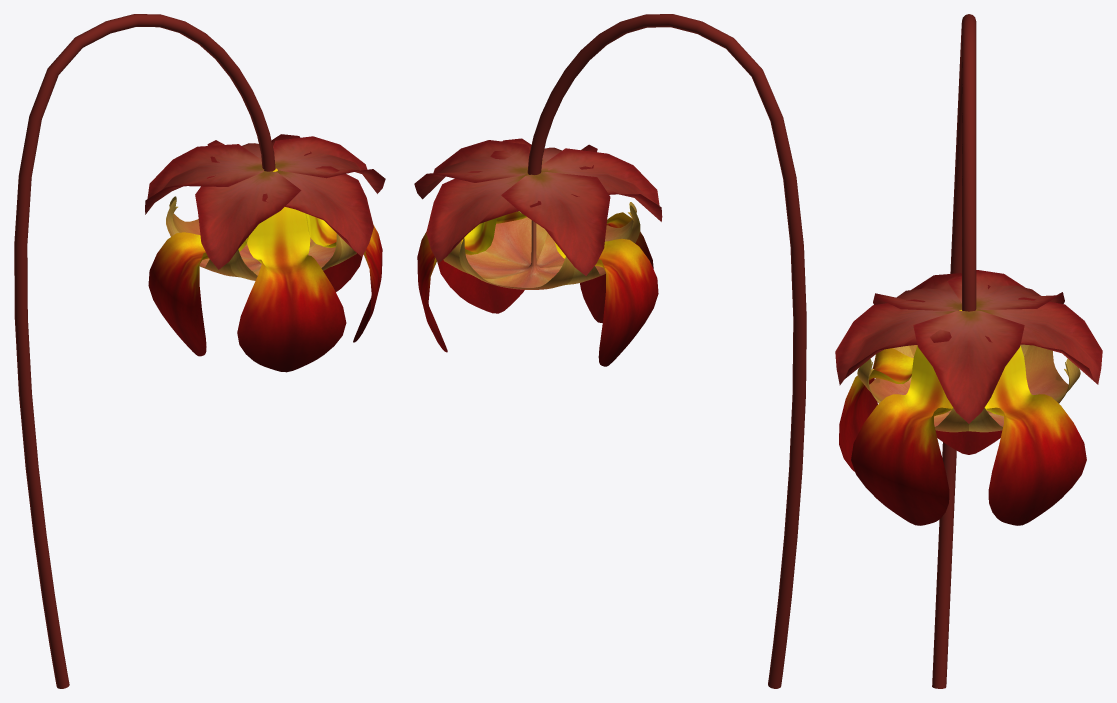
Rendered from flower_v004.glb.
3 views of the same model, side by side, from view 1: azimuth 30°, elevation 25°; view 2: azimuth 150°, elevation 25°; view 3: azimuth 270°, elevation 25° (orthographic). The views are drawn at different scales.
Visible parts, largest first — view 1: middle_petal.002, scape.001, sepal_005, sepal_004, sepal_001, sepal_003, style; view 2: scape.001, middle_petal.002, style, sepal_001, sepal_002, sepal_005, sepal_003, sepal_004; view 3: middle_petal.002, scape.001, sepal_003, style, sepal_004, sepal_002, sepal_001, sepal_005.
Boxes of the visible parts, x1=… form: middle_petal.002: x1=148, y1=168, x2=382, y2=372; scape.001: x1=14, y1=14, x2=275, y2=688; sepal_005: x1=195, y1=170, x2=301, y2=269; sepal_004: x1=262, y1=166, x2=373, y2=256; sepal_001: x1=145, y1=144, x2=264, y2=214; sepal_003: x1=273, y1=136, x2=385, y2=193; style: x1=166, y1=196, x2=356, y2=280; scape.001: x1=527, y1=14, x2=806, y2=688; middle_petal.002: x1=417, y1=211, x2=658, y2=366; style: x1=443, y1=202, x2=640, y2=289; sepal_001: x1=501, y1=172, x2=610, y2=275; sepal_002: x1=426, y1=171, x2=541, y2=263; sepal_005: x1=541, y1=148, x2=662, y2=221; sepal_003: x1=414, y1=140, x2=529, y2=199; sepal_004: x1=490, y1=138, x2=597, y2=170; middle_petal.002: x1=839, y1=310, x2=1086, y2=525; scape.001: x1=932, y1=14, x2=976, y2=688; sepal_003: x1=913, y1=311, x2=1024, y2=423; style: x1=857, y1=344, x2=1080, y2=432; sepal_004: x1=835, y1=299, x2=958, y2=385; sepal_002: x1=975, y1=297, x2=1102, y2=384; sepal_001: x1=947, y1=270, x2=1064, y2=309; sepal_005: x1=873, y1=273, x2=990, y2=311.
Size of the model in its own units: 3.23 by 5.39 by 1.87.
6 materials, 3 textured.
